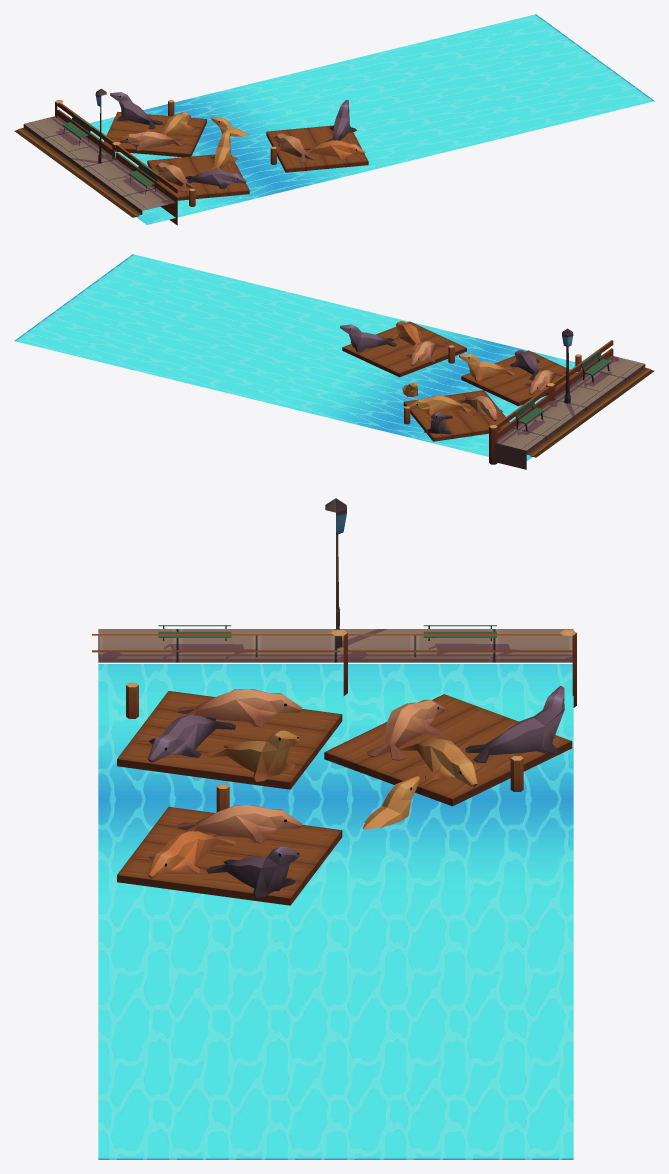
The model's file is 1.100_SanFrancisco_low_02_left.glb.
3 renders of one model, top to bottom at view 1: azimuth 30°, elevation 25°; view 2: azimuth 150°, elevation 25°; view 3: azimuth 270°, elevation 25°, orthographic. The views are drawn at different scales.
Visible parts, largest first — view 1: 1.100_SanFrancisco_low_02_left; view 2: 1.100_SanFrancisco_low_02_left; view 3: 1.100_SanFrancisco_low_02_left.
Part boxes in pixels (x1=…): 1.100_SanFrancisco_low_02_left: x1=14, y1=14, x2=654, y2=225; 1.100_SanFrancisco_low_02_left: x1=14, y1=254, x2=654, y2=469; 1.100_SanFrancisco_low_02_left: x1=92, y1=498, x2=576, y2=1159.
Bounding box in the file's own units: 457 × 82.68 × 184.
3 materials, 3 textured.
